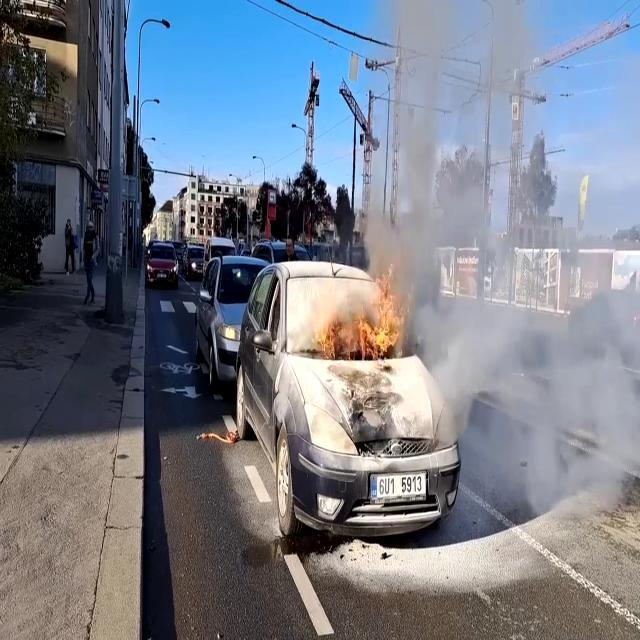Fire: (314, 268, 400, 364)
Smoke: (378, 0, 636, 512)
